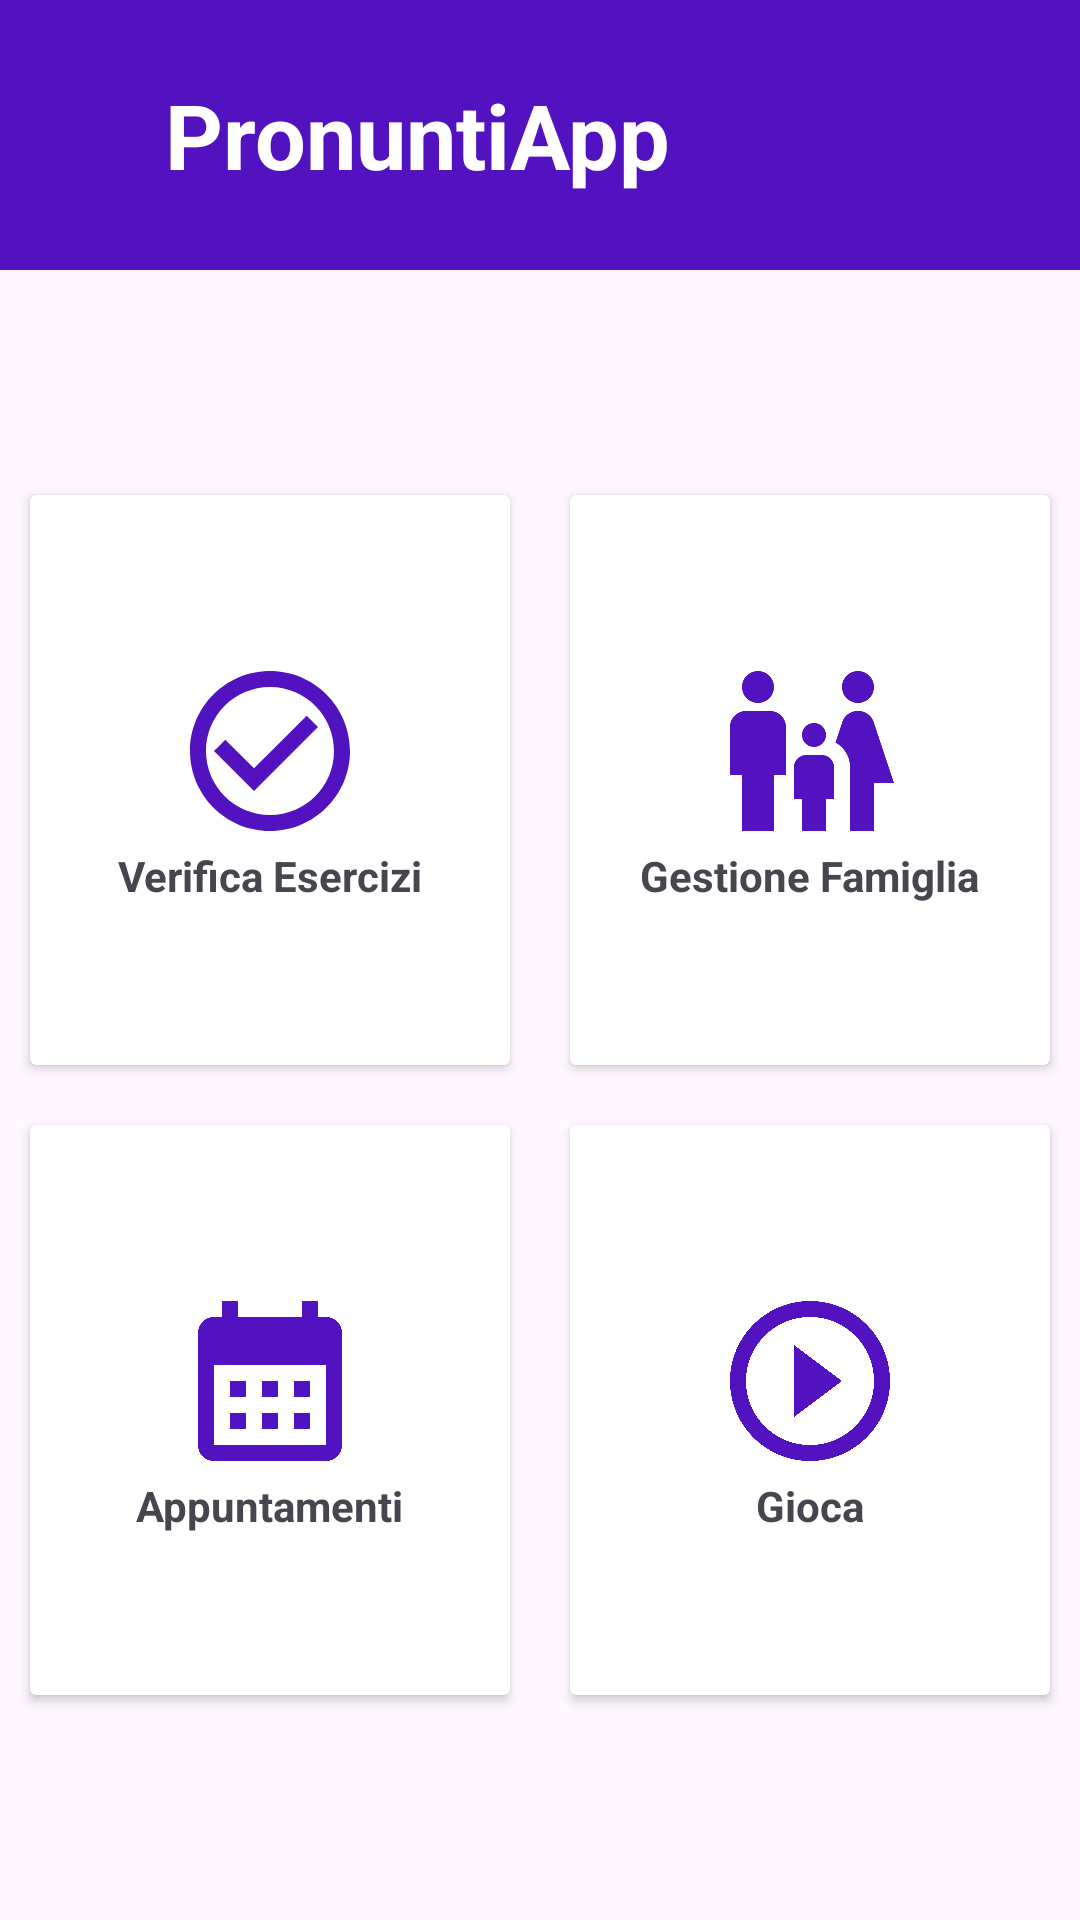

Screen size 1080px×1920px. Icon name, then its box in pixels as {"left": x1, "top": y1, "right": x2, "bottom": y2}:
calendar month: {"left": 198, "top": 1301, "right": 342, "bottom": 1461}
check circle: {"left": 190, "top": 671, "right": 350, "bottom": 831}
family restroom: {"left": 730, "top": 671, "right": 894, "bottom": 831}
play circle: {"left": 730, "top": 1301, "right": 890, "bottom": 1461}
